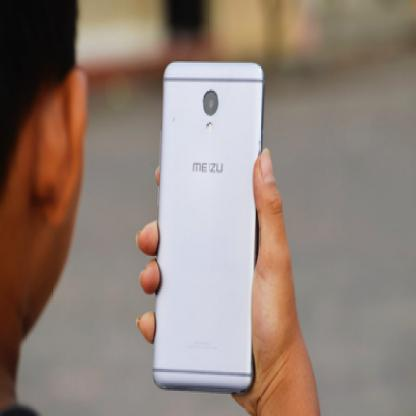cell-phone: (158, 44, 269, 389)
